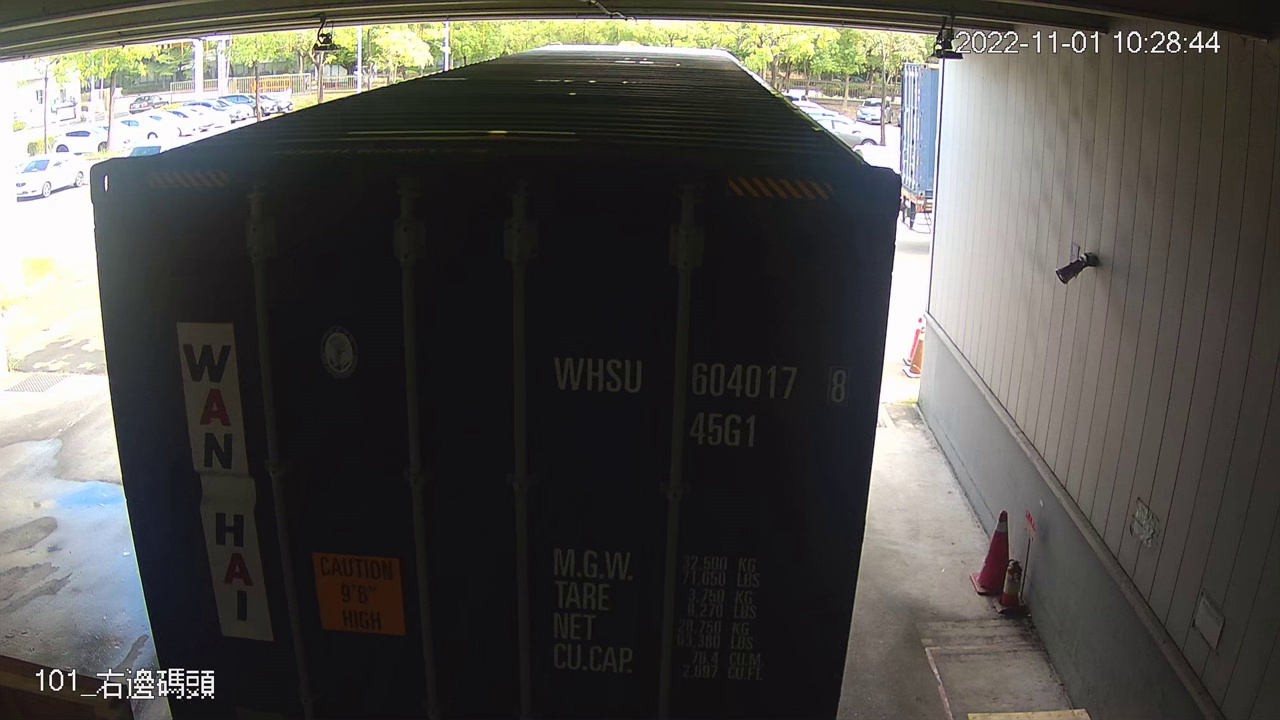container: (537, 337, 860, 457)
